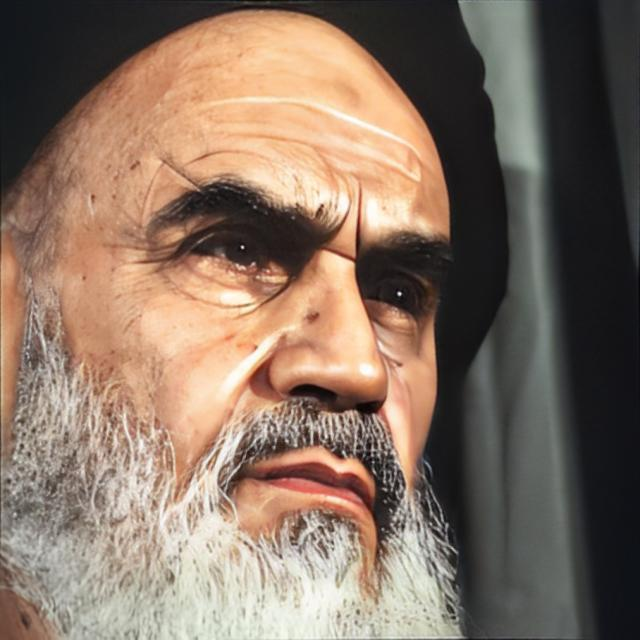anger: (72, 34, 454, 568)
